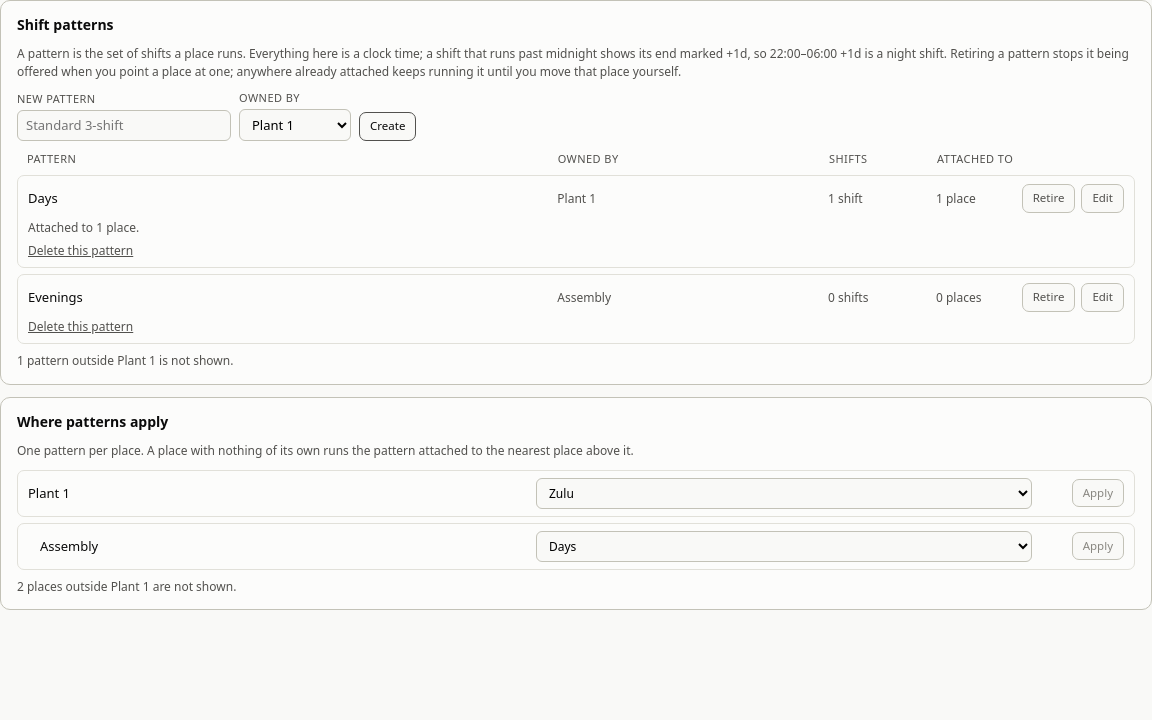
Test: ShiftsPanel — uniqueness reads the UNTRIMMED list › S15: creating a pattern named after a filtered-away one is refused here, not by the server
In the field named "New pattern name": (124, 126) left=17, top=110, right=231, bottom=141, type "Zulu"
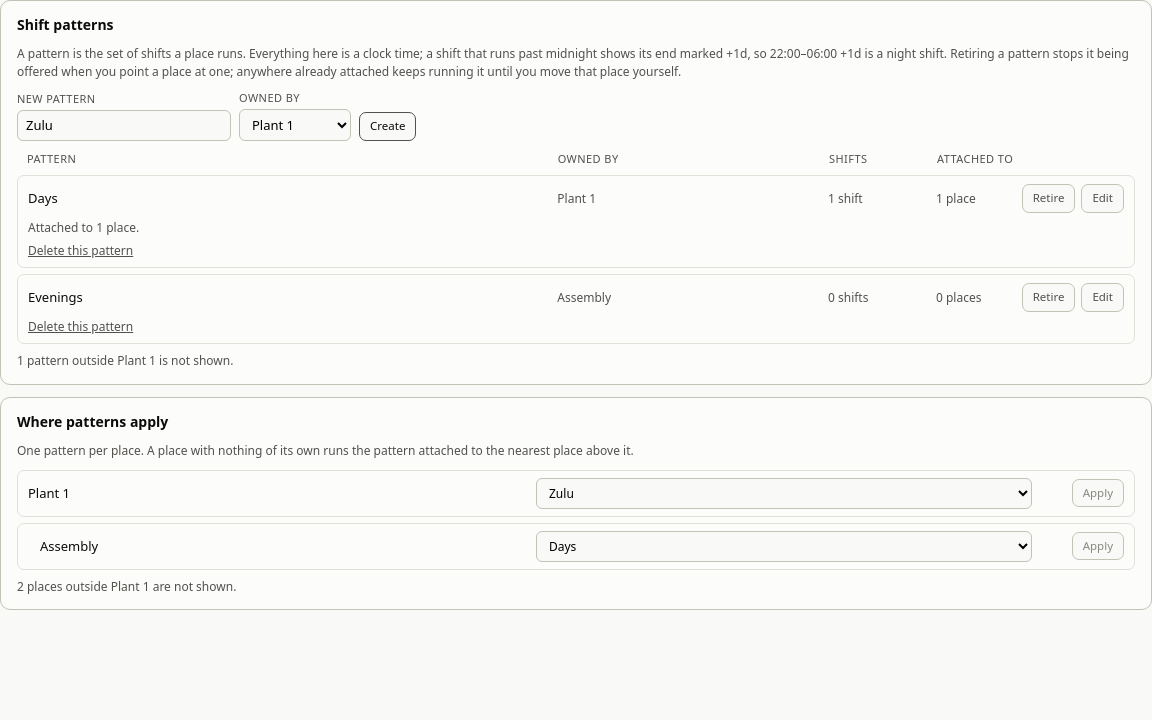
Click the button "Create": (388, 127) left=359, top=112, right=416, bottom=141
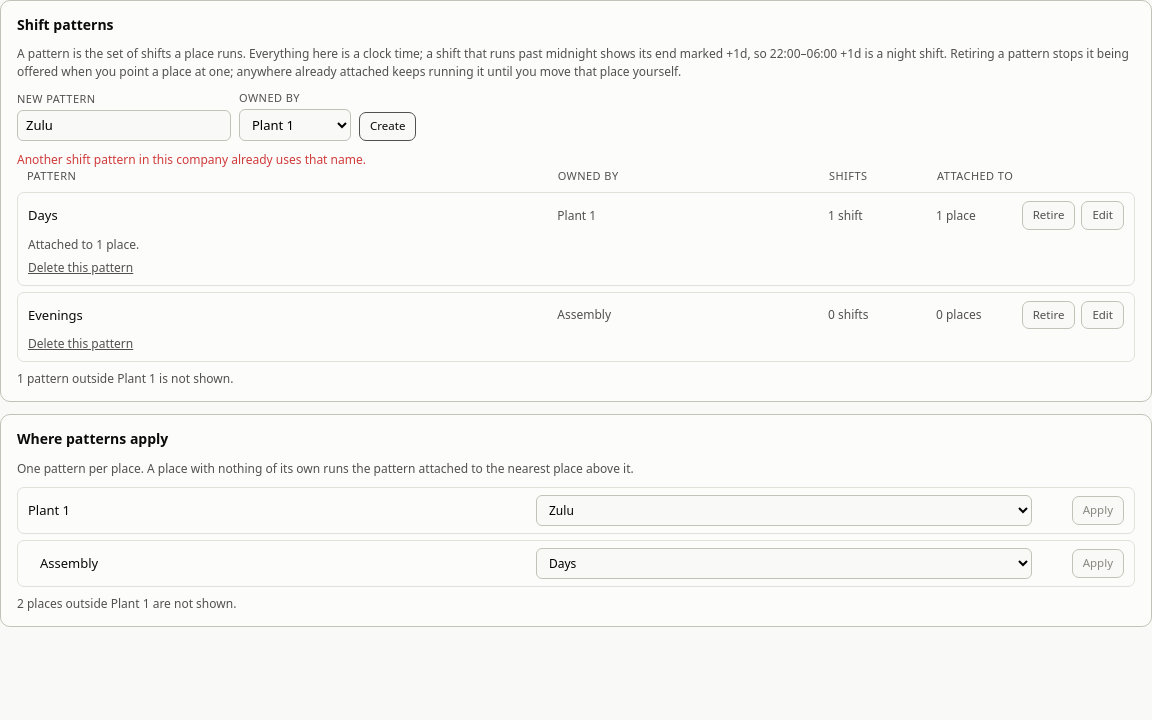
Expected: the text "Another shift pattern in this company already uses that name." is shown, left=17, top=151, right=366, bottom=168
